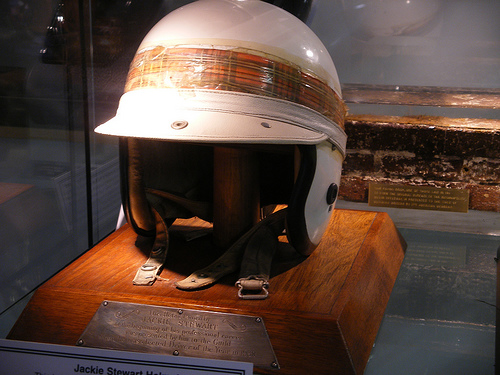helmet: (109, 5, 348, 241)
